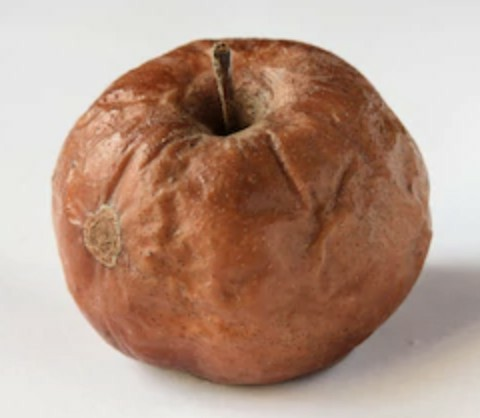rotten_apple: (51, 38, 434, 386)
